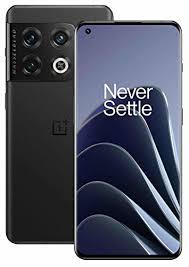Smartphone: (75, 20, 181, 258), (6, 7, 110, 246)
